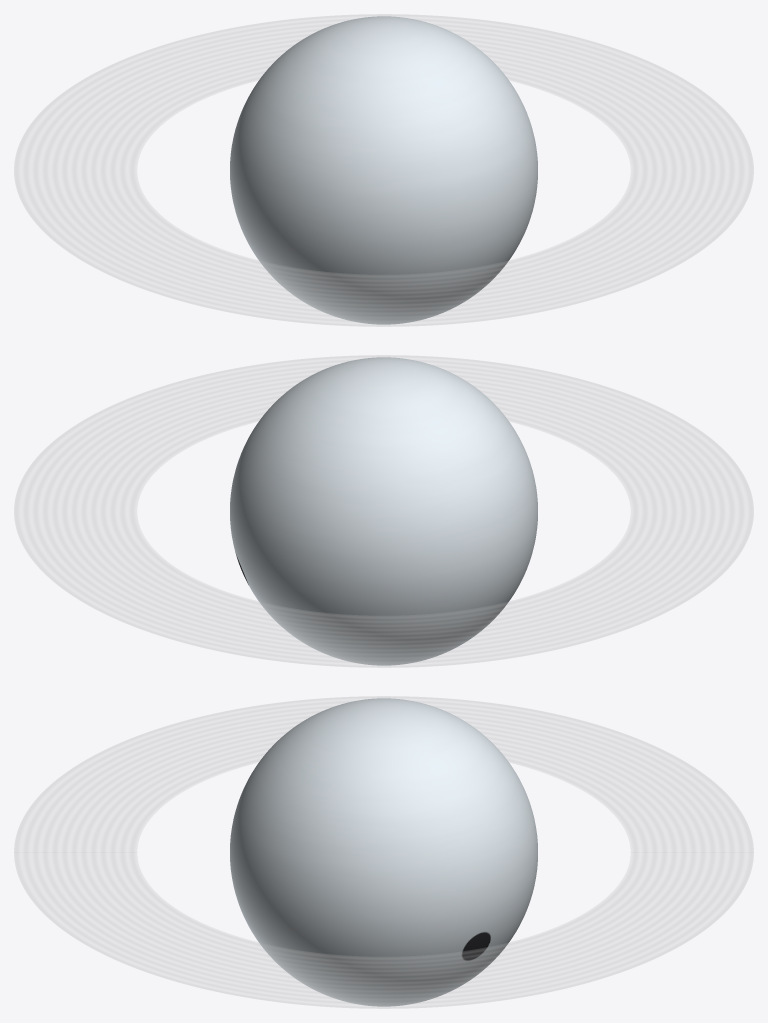
The model's file is cue-ball.glb.
3 renders of one model, top to bottom at view 1: azimuth 30°, elevation 25°; view 2: azimuth 150°, elevation 25°; view 3: azimuth 270°, elevation 25°, orthographic.
Visible parts, largest first — view 1: SM_cue-ball_ring_PLACEHOLDER, SM_cue-ball; view 2: SM_cue-ball_ring_PLACEHOLDER, SM_cue-ball; view 3: SM_cue-ball_ring_PLACEHOLDER, SM_cue-ball.
Part boxes in pixels (<box>): SM_cue-ball_ring_PLACEHOLDER: <box>14,14,753,326</box>; SM_cue-ball: <box>230,16,537,324</box>; SM_cue-ball_ring_PLACEHOLDER: <box>14,355,753,667</box>; SM_cue-ball: <box>230,357,537,665</box>; SM_cue-ball_ring_PLACEHOLDER: <box>14,696,753,1008</box>; SM_cue-ball: <box>230,698,537,1006</box>.
Size of the model in its own units: 4.8 by 2 by 4.8.
2 materials, 2 textured.
